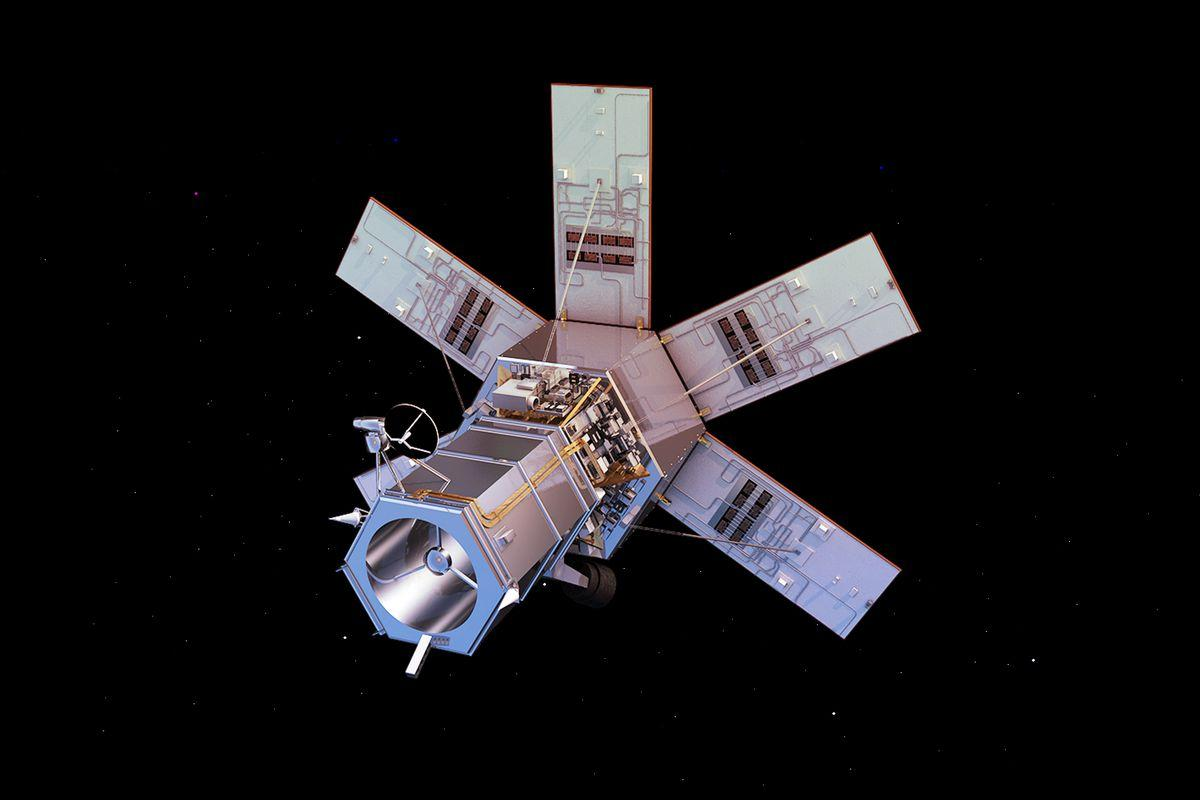antenna: (383, 401, 441, 462)
body: (321, 341, 696, 683)
solar: (654, 426, 906, 645), (655, 227, 927, 426), (332, 193, 550, 383), (547, 78, 656, 331)
